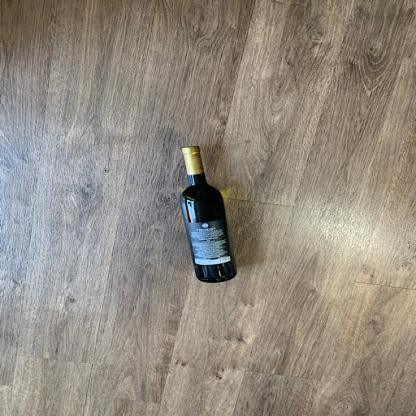trash: (179, 144, 243, 286)
